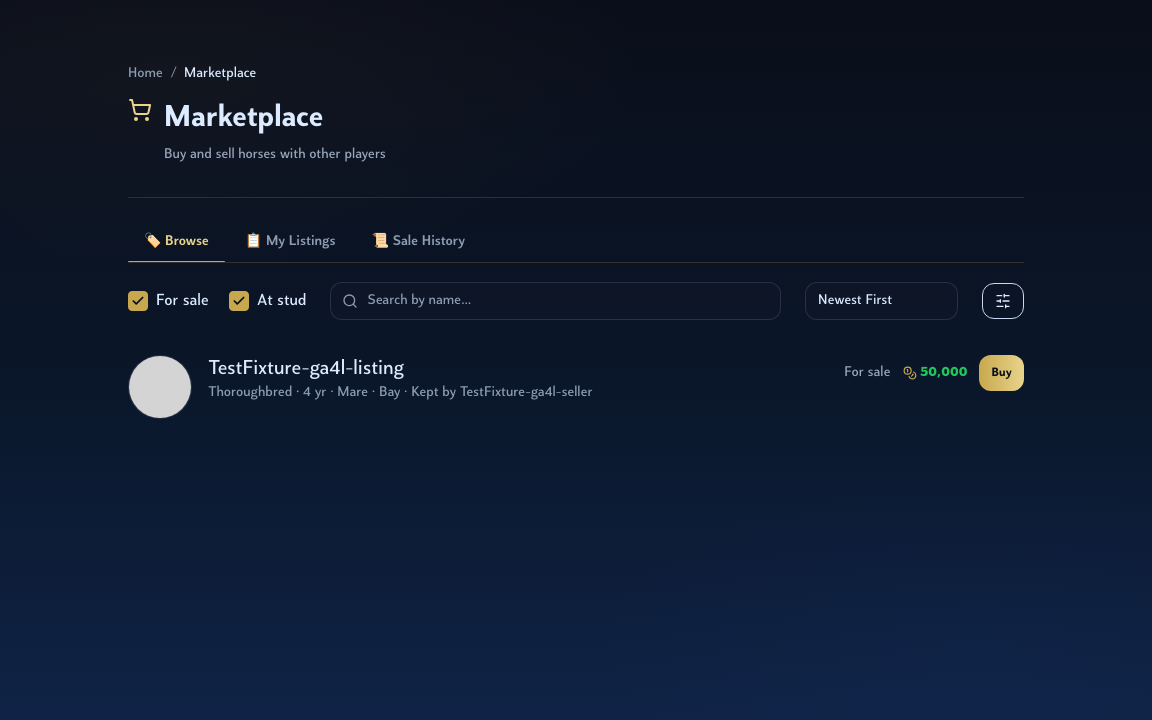
HorseMarketplacePage — real balance wiring (Equoria-ga4l) › hydrates userBalance from profile and disables Buy when insufficient funds
Expected: the link "TestFixture-ga4l-listing" is shown, [208,359,404,379]
Click the button with aria-label "buy testfixture-ga4l-listing".
click(1002, 373)  # box [979,355,1024,391]
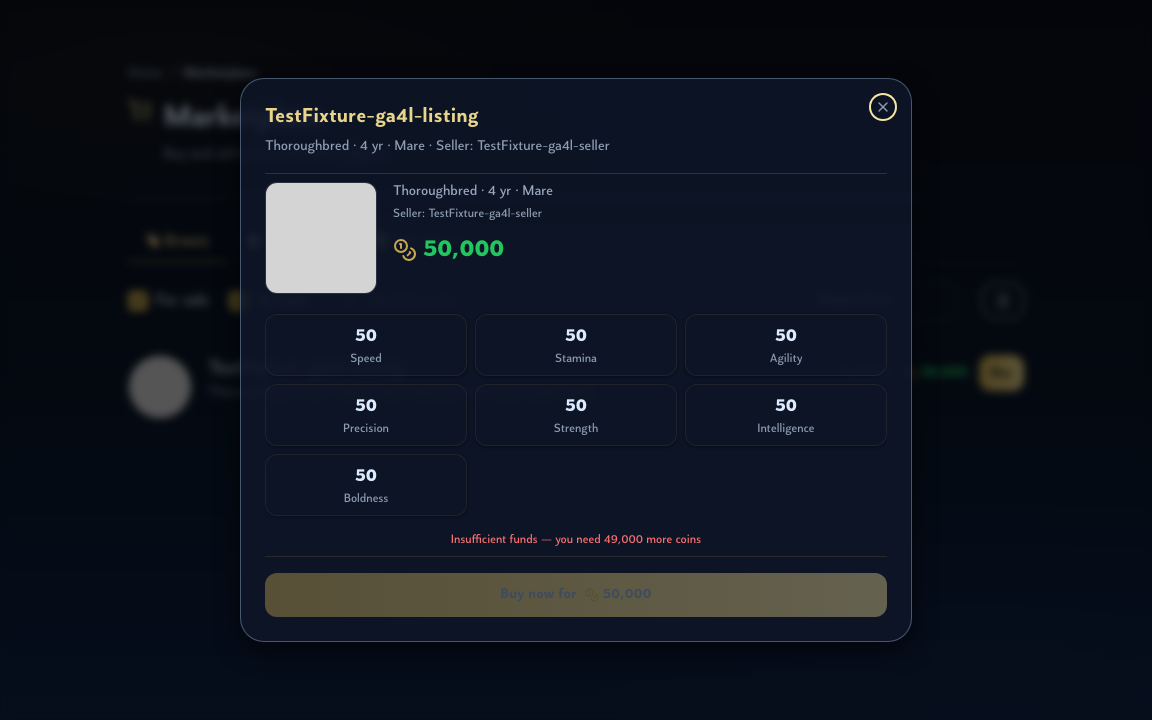
Now the text "Insufficient funds — you need 49,000 more coins" is shown, box [451,534,701,546]
Now the button "Buy now for 50,000" is disabled, box [265,573,887,617]
